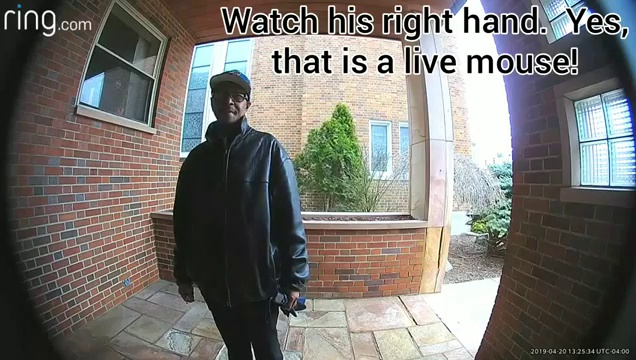face: (213, 84, 245, 120)
